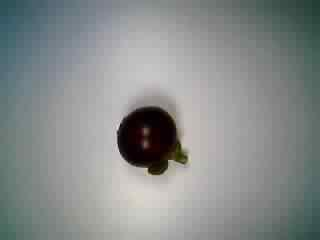mangosteen: (111, 104, 188, 179)
